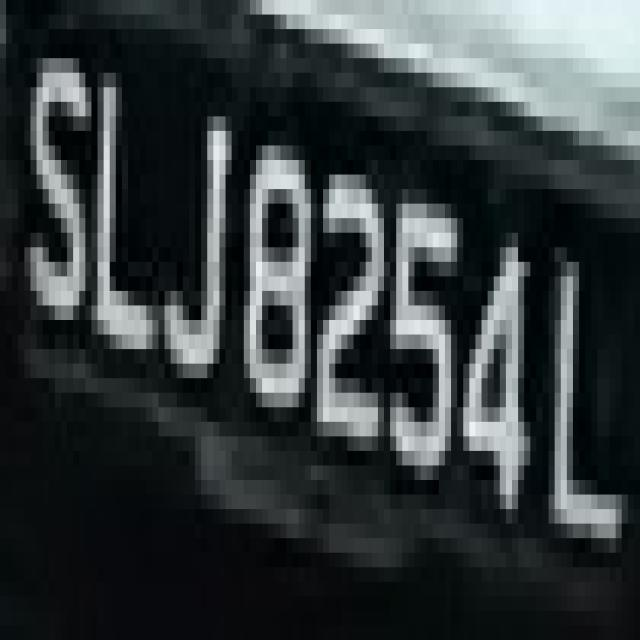2: (299, 117, 390, 494)
4: (451, 175, 536, 552)
5: (372, 146, 463, 509)
8: (238, 73, 323, 451)
J: (146, 58, 238, 422)
L: (536, 204, 634, 567), (92, 44, 158, 378)
S: (6, 0, 85, 349)
